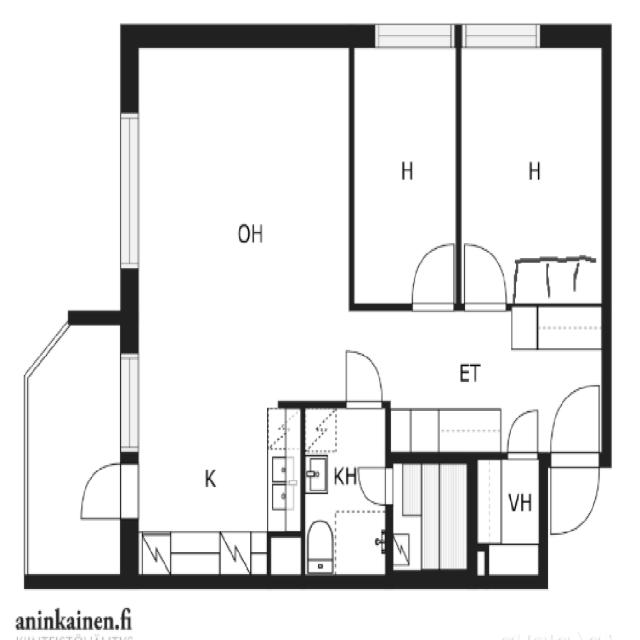door: (544, 453, 605, 538), (71, 454, 138, 526), (405, 234, 458, 315), (458, 236, 512, 315), (546, 377, 600, 452), (337, 344, 391, 414), (499, 402, 545, 464), (354, 462, 396, 512)
window: (111, 102, 149, 278), (112, 336, 147, 464), (366, 16, 458, 56), (457, 16, 548, 55)
zone: (131, 47, 360, 437), (458, 38, 606, 295), (132, 372, 302, 580), (381, 300, 597, 459), (349, 40, 459, 308), (25, 322, 130, 576), (301, 403, 391, 579), (391, 457, 472, 578), (473, 456, 543, 584)
